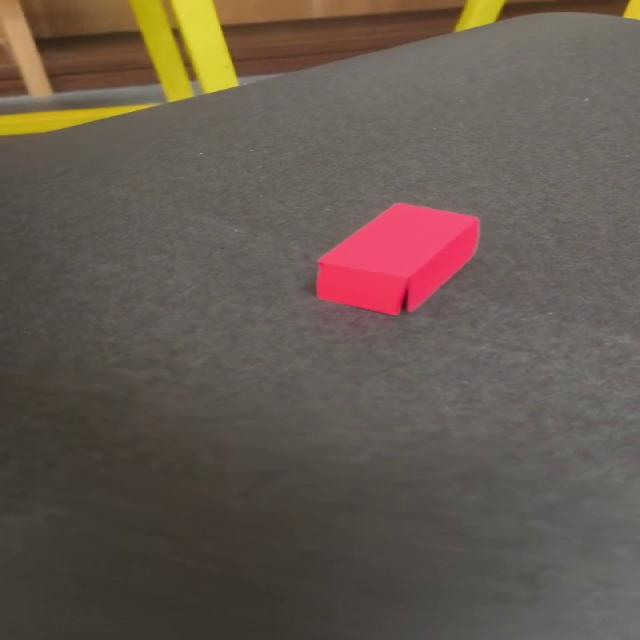red block: (313, 202, 480, 316)
